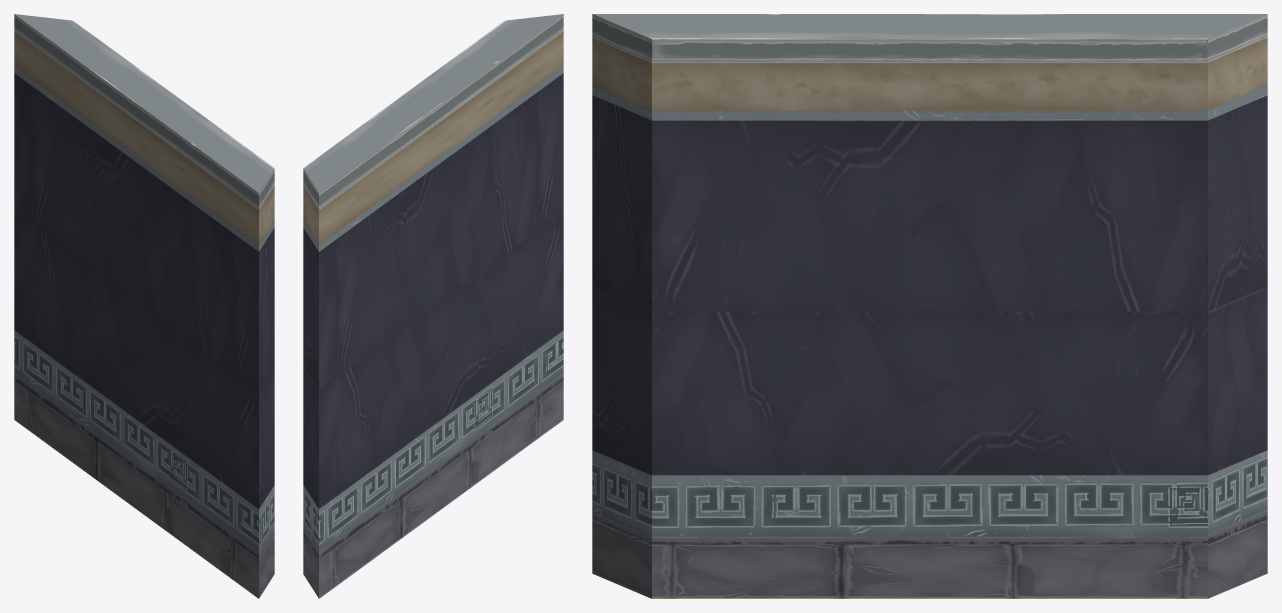
Rendered from Capricorn_Wall_Tile_1.fbx.
3 views of the same model, side by side, from view 1: azimuth 30°, elevation 25°; view 2: azimuth 150°, elevation 25°; view 3: azimuth 270°, elevation 25° (orthographic). The views are drawn at different scales.
Parts seen in each view (by area): view 1: Capricorn_Wall_Tile; view 2: Capricorn_Wall_Tile; view 3: Capricorn_Wall_Tile.
Part boxes in pixels (box(x1,y1,x2,y2)): Capricorn_Wall_Tile: box(14, 14, 274, 598); Capricorn_Wall_Tile: box(303, 14, 563, 598); Capricorn_Wall_Tile: box(592, 14, 1267, 598).
Size of the model in its own units: 729 by 64.53 by 667.
